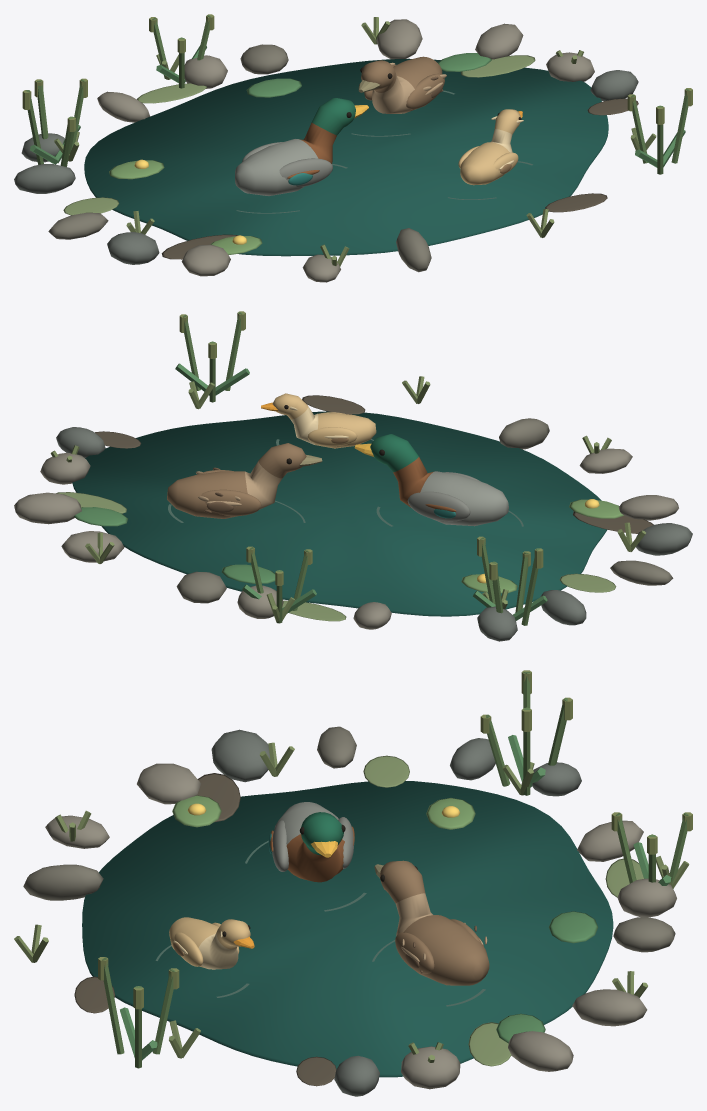
The model's file is lago_patos.glb.
The picture shows the model from 3 angles, top to bottom: view 1: azimuth 30°, elevation 25°; view 2: azimuth 150°, elevation 25°; view 3: azimuth 270°, elevation 25°; orthographic projection. The views are drawn at different scales.
Parts seen in each view (by area): view 1: Água rasa de contorno irregular, Lago | Pedra de margem 1, Lago | Peito castanho do pato-real, Lago | Pedra de margem 2, Lago | Penas pardas da fêmea, Lago | Pedra de margem 0, Lago | Juncos verde-oliva, Lago | Penugem dourada do filhote, Lago | Folhas de nenúfar, Lago | Margem verde musgo, Lago | Capim baixo ao sol, Lago | Lodo escuro da margem (+3 smaller); view 2: Água rasa de contorno irregular, Lago | Pedra de margem 1, Lago | Penas pardas da fêmea, Lago | Peito castanho do pato-real, Lago | Pedra de margem 2, Lago | Pedra de margem 0, Lago | Juncos verde-oliva, Lago | Penugem dourada do filhote, Lago | Folhas de nenúfar, Lago | Capim baixo ao sol, Lago | Lodo escuro da margem, Lago | Margem verde musgo (+3 smaller); view 3: Água rasa de contorno irregular, Lago | Pedra de margem 1, Lago | Penas pardas da fêmea, Lago | Pedra de margem 2, Lago | Pedra de margem 0, Lago | Juncos verde-oliva, Lago | Peito castanho do pato-real, Lago | Folhas de nenúfar, Lago | Capim baixo ao sol, Lago | Margem verde musgo, Lago | Lodo escuro da margem, Lago | Penugem dourada do filhote (+3 smaller).
Part boxes in pixels (box(x1,y1,x2,y2)): Água rasa de contorno irregular: box(84, 58, 608, 256); Lago | Pedra de margem 1: box(97, 19, 594, 282); Lago | Peito castanho do pato-real: box(235, 98, 355, 195); Lago | Pedra de margem 2: box(14, 70, 638, 264); Lago | Penas pardas da fêmea: box(361, 56, 446, 113); Lago | Pedra de margem 0: box(48, 44, 431, 272); Lago | Juncos verde-oliva: box(26, 15, 689, 174); Lago | Penugem dourada do filhote: box(458, 109, 523, 185); Lago | Folhas de nenúfar: box(30, 45, 685, 167); Lago | Margem verde musgo: box(63, 55, 535, 215); Lago | Capim baixo ao sol: box(54, 17, 656, 266); Lago | Lodo escuro da margem: box(161, 98, 638, 259); Água rasa de contorno irregular: box(72, 411, 607, 616); Lago | Pedra de margem 1: box(14, 448, 678, 629); Lago | Penas pardas da fêmea: box(167, 443, 306, 518); Lago | Peito castanho do pato-real: box(370, 434, 508, 526); Lago | Pedra de margem 2: box(56, 427, 692, 641); Lago | Pedra de margem 0: box(176, 418, 673, 603); Lago | Juncos verde-oliva: box(183, 312, 540, 625); Lago | Penugem dourada do filhote: box(272, 393, 376, 448); Lago | Folhas de nenúfar: box(74, 363, 547, 620); Lago | Capim baixo ao sol: box(50, 376, 645, 623); Lago | Lodo escuro da margem: box(95, 395, 653, 533); Lago | Margem verde musgo: box(56, 492, 616, 621); Água rasa de contorno irregular: box(82, 781, 613, 1077); Lago | Pedra de margem 1: box(45, 763, 676, 1089); Lago | Penas pardas da fêmea: box(379, 860, 489, 985); Lago | Pedra de margem 2: box(211, 729, 581, 1096); Lago | Pedra de margem 0: box(23, 726, 675, 952); Lago | Juncos verde-oliva: box(102, 672, 688, 1068); Lago | Peito castanho do pato-real: box(270, 802, 354, 882); Lago | Folhas de nenúfar: box(120, 735, 671, 1060); Lago | Capim baixo ao sol: box(14, 742, 689, 1062); Lago | Margem verde musgo: box(363, 755, 643, 1066); Lago | Lodo escuro da margem: box(74, 773, 336, 1086); Lago | Penugem dourada do filhote: box(169, 917, 250, 969).
Bounding box in the file's own units: 2.92 × 0.4036 × 2.33.
